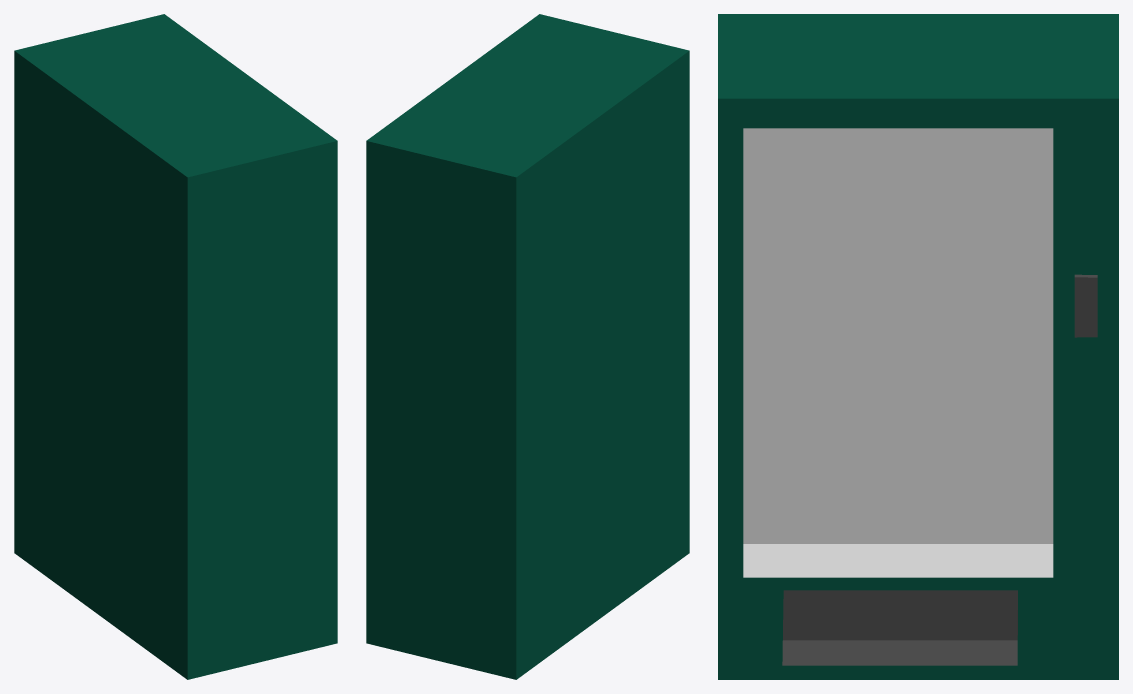
Rendered from VendingMachine.fbx.
The picture shows the model from 3 angles, left to right: view 1: azimuth 30°, elevation 25°; view 2: azimuth 150°, elevation 25°; view 3: azimuth 270°, elevation 25°; orthographic projection. The views are drawn at different scales.
Visible parts, largest first — view 1: VendingMachine; view 2: VendingMachine; view 3: VendingMachine.
Part boxes in pixels (bbox=[...]): VendingMachine: bbox=[14, 14, 337, 679]; VendingMachine: bbox=[366, 14, 689, 679]; VendingMachine: bbox=[718, 14, 1118, 679].
Size of the model in its own units: 103 by 320 by 200.
